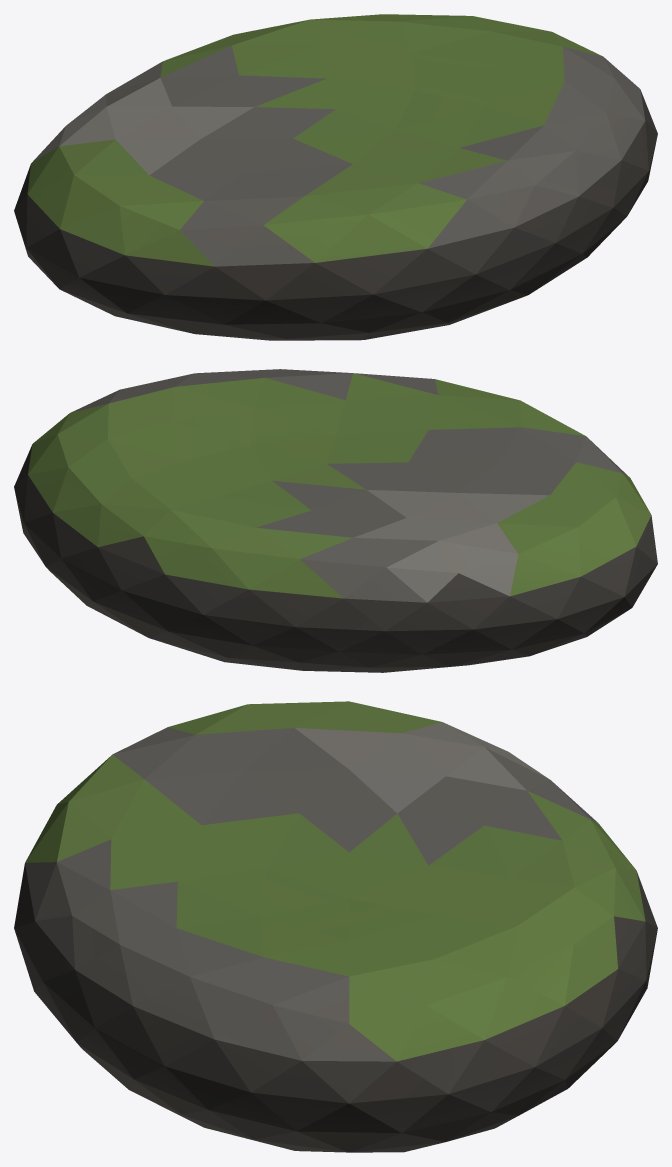
File: creek_stone_c.glb
3 renders of one model, top to bottom at view 1: azimuth 30°, elevation 25°; view 2: azimuth 150°, elevation 25°; view 3: azimuth 270°, elevation 25°, orthographic. The views are drawn at different scales.
Parts seen in each view (by area): view 1: creek_stone_c; view 2: creek_stone_c; view 3: creek_stone_c.
Boxes of the visible parts, box(x1,y1,x2,y2) form: creek_stone_c: box(14, 14, 657, 340); creek_stone_c: box(14, 369, 657, 672); creek_stone_c: box(14, 701, 657, 1152).
Bounding box in the file's own units: 0.7205 × 0.2106 × 0.5495.
